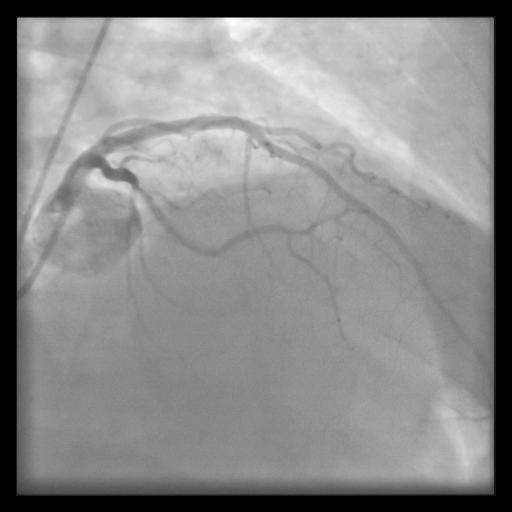Stenosis: (128, 180, 157, 206)
